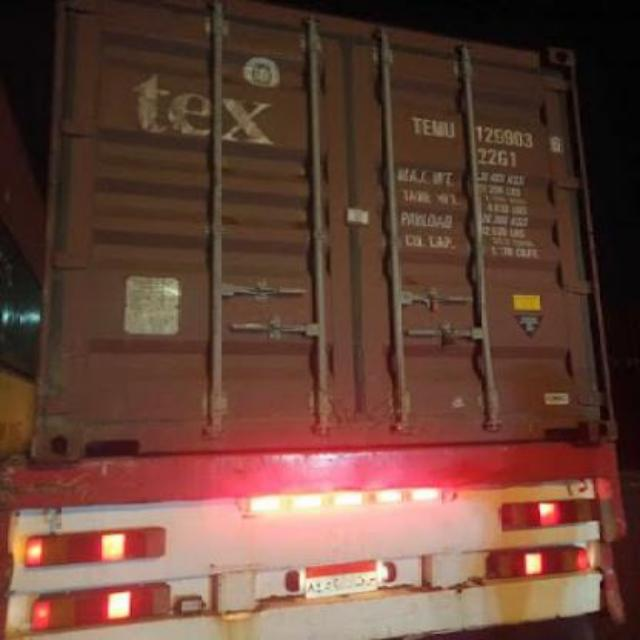0: (512, 122, 522, 148)
1: (472, 120, 484, 144)
2: (482, 117, 494, 143)
3: (522, 120, 536, 150)
6: (548, 131, 564, 155)
9: (492, 120, 504, 146), (504, 121, 512, 151)
E: (422, 115, 432, 135)
M: (432, 108, 446, 142)
T: (410, 112, 422, 136)
U: (444, 116, 458, 140)
